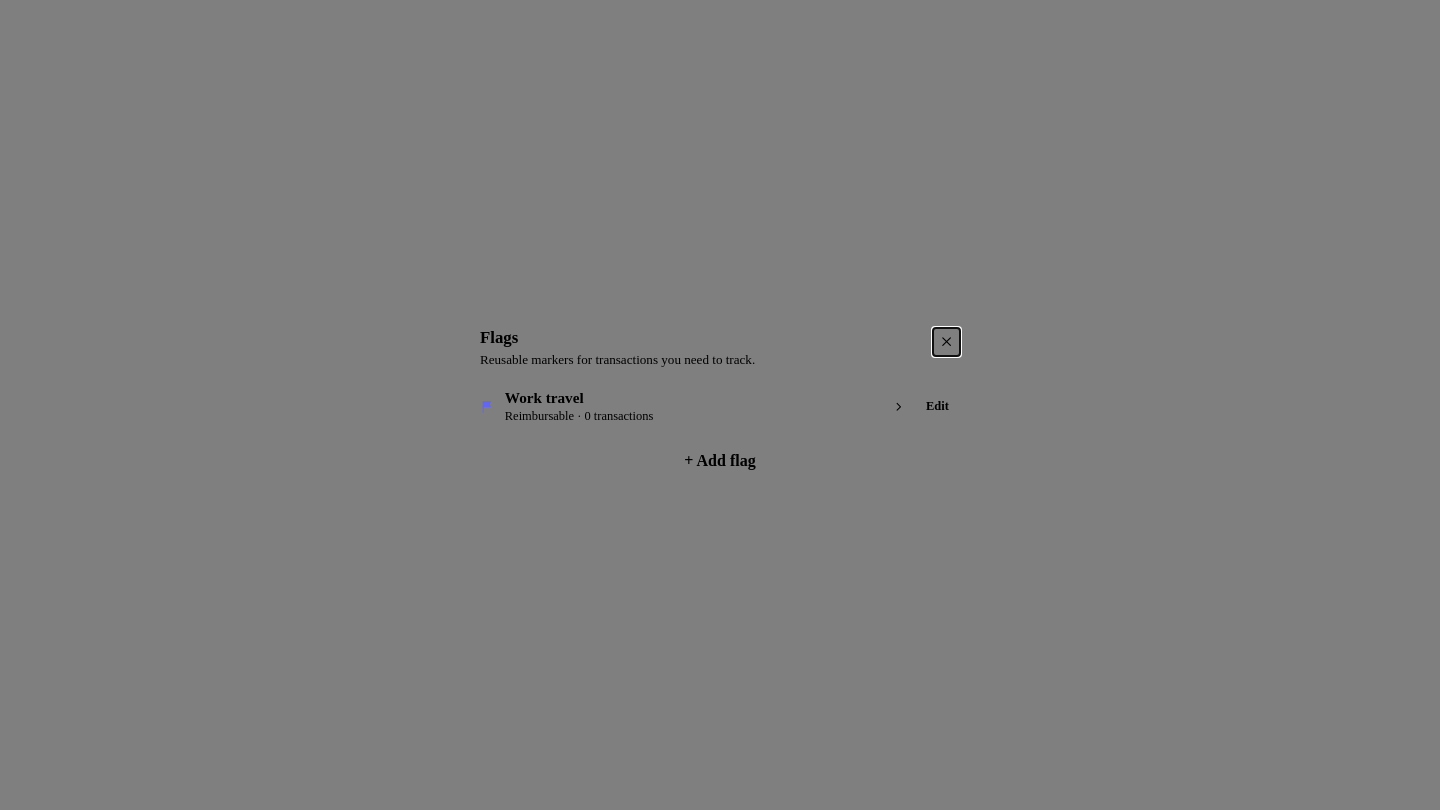
Test: FlagsModal — configuring an auto-label › saves the chosen label against the flag and returns to the list
Click the button "Work travel Reimbursable · 0 transactions" at (544, 398), box left=480, top=389, right=905, bottom=424
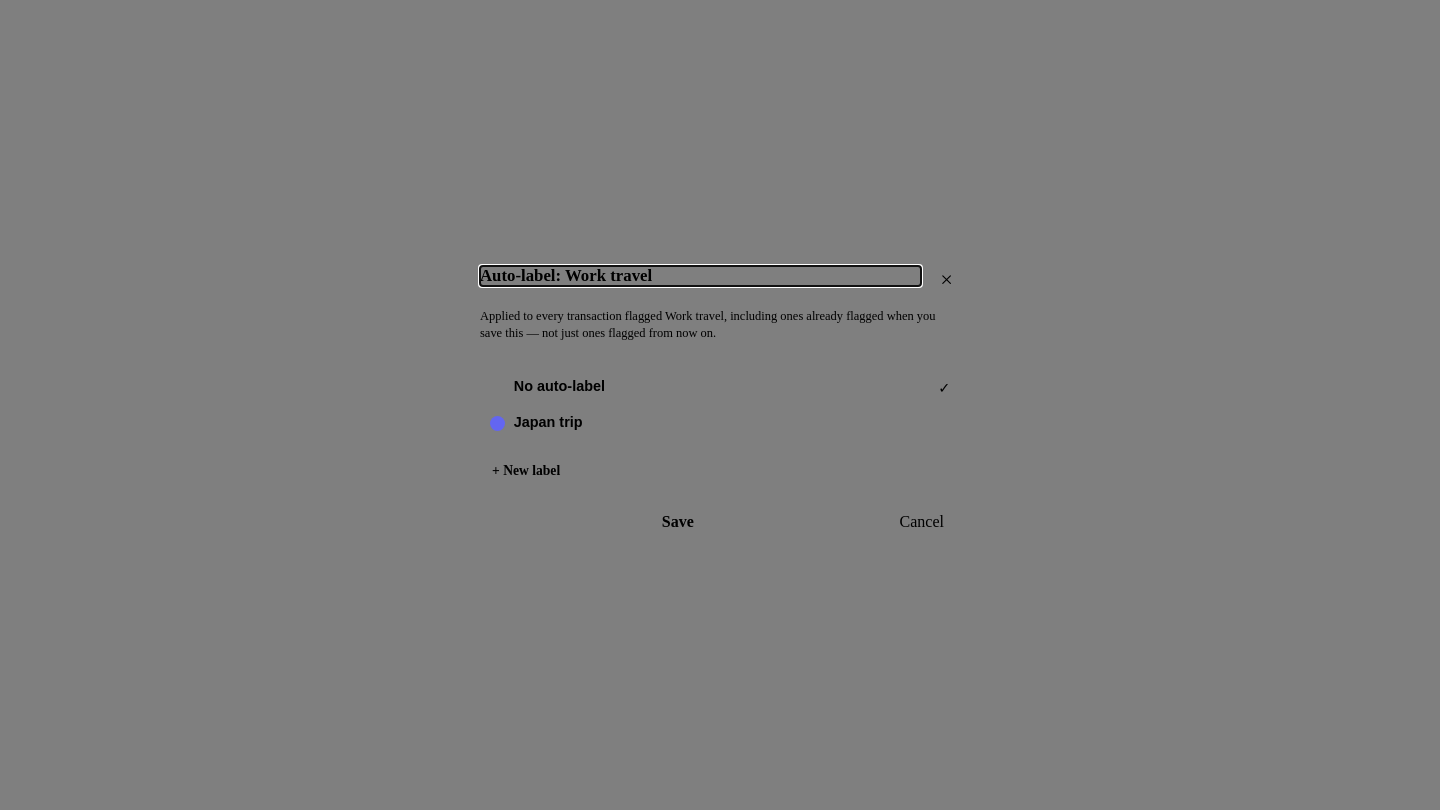
Click the button "Japan trip" at (548, 422), box left=480, top=405, right=960, bottom=440
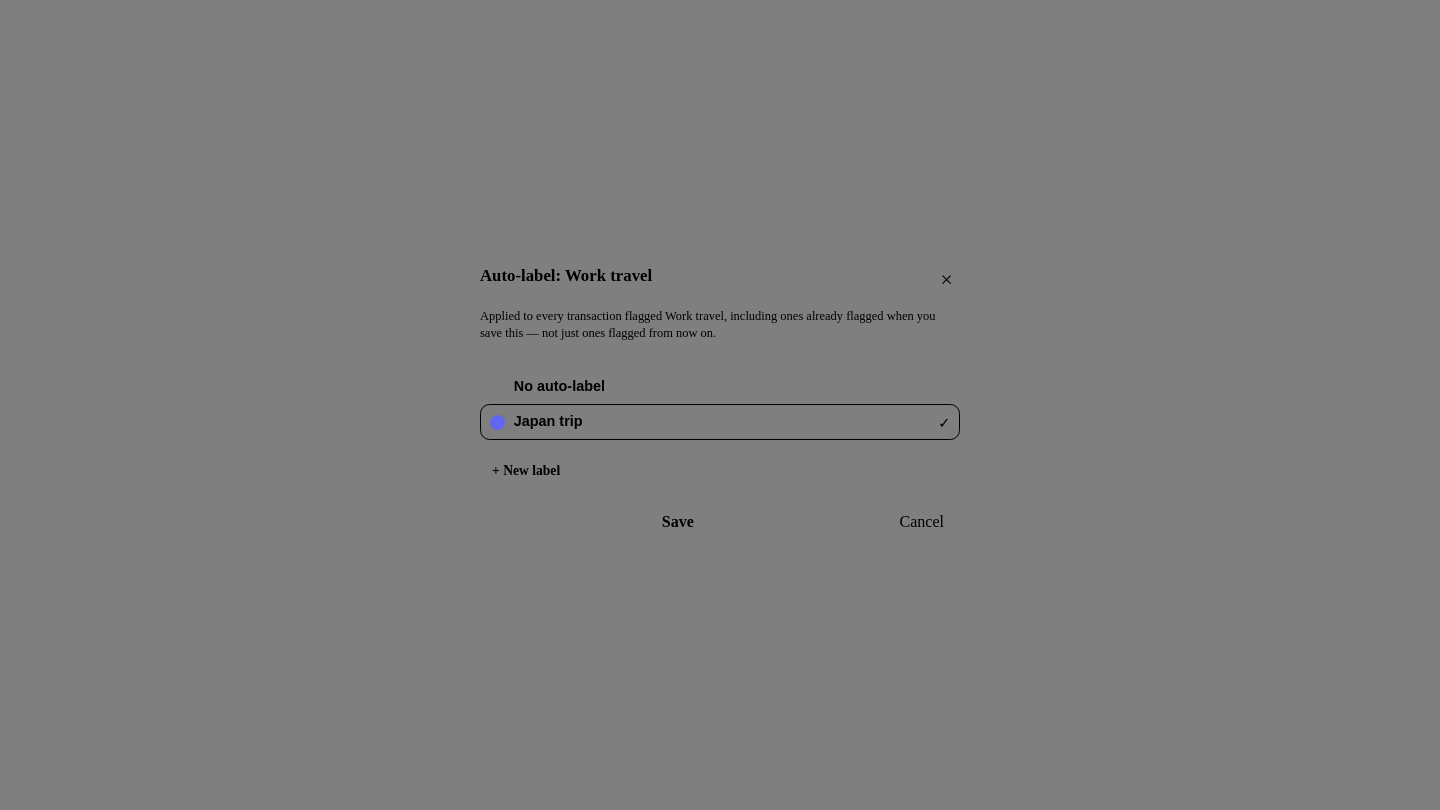
Click the button "Save" at (678, 522), box left=480, top=502, right=876, bottom=542
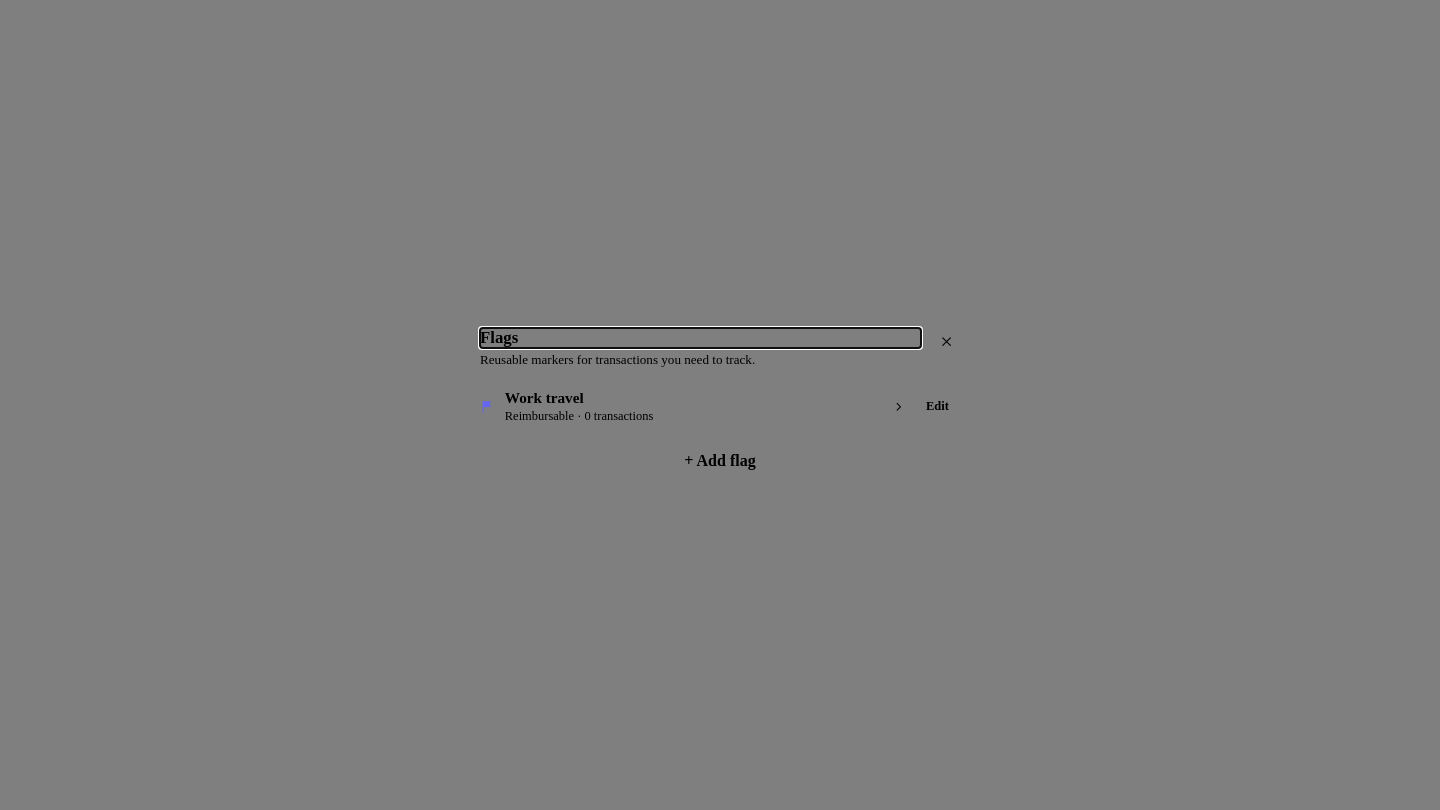
Expected: the text "Work travel" is shown, left=505, top=389, right=584, bottom=406
Expected: the button "No auto-label" is gone
